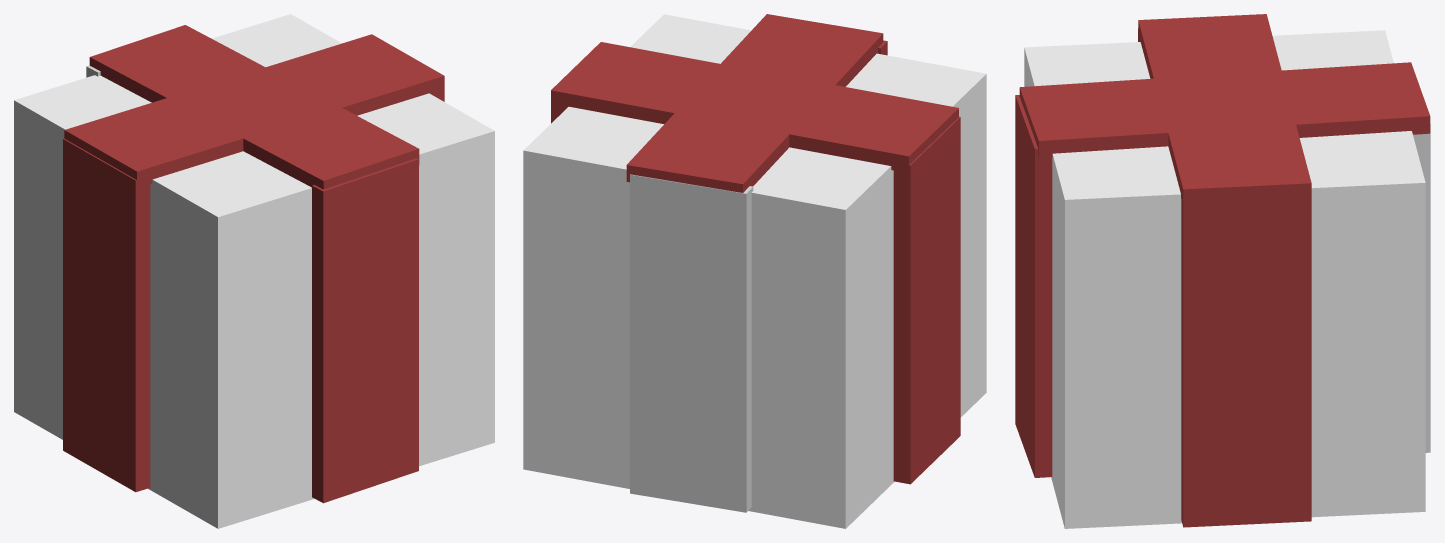
Rendered from present.dae.
3 renders of one model, left to right at view 1: azimuth 30°, elevation 25°; view 2: azimuth 150°, elevation 25°; view 3: azimuth 270°, elevation 25°, orthographic. The views are drawn at different scales.
Parts seen in each view (by area): view 1: Cube, Cube.3, Cube.5, Cube.2, Cube.1; view 2: Cube, Cube.4, Cube.2, Cube.5, Cube.1; view 3: Cube, Cube.6, Cube.2, Cube.1, Cube.3, Cube.4.
Part boxes in pixels (left/top/right/bottom): Cube: left=14, top=14, right=494, bottom=528; Cube.3: left=312, top=158, right=418, bottom=503; Cube.5: left=63, top=138, right=150, bottom=492; Cube.2: left=89, top=25, right=419, bottom=189; Cube.1: left=64, top=34, right=444, bottom=183; Cube: left=523, top=14, right=986, bottom=528; Cube.4: left=630, top=174, right=753, bottom=512; Cube.2: left=626, top=14, right=883, bottom=192; Cube.5: left=893, top=116, right=960, bottom=484; Cube.1: left=551, top=42, right=958, bottom=173; Cube: left=1024, top=30, right=1425, bottom=528; Cube.6: left=1181, top=192, right=1311, bottom=527; Cube.2: left=1019, top=62, right=1430, bottom=158; Cube.1: left=1138, top=14, right=1311, bottom=206; Cube.3: left=1015, top=95, right=1052, bottom=477; Cube.4: left=1413, top=123, right=1430, bottom=452.
Size of the model in its own units: 60.3 by 54.66 by 60.06.
